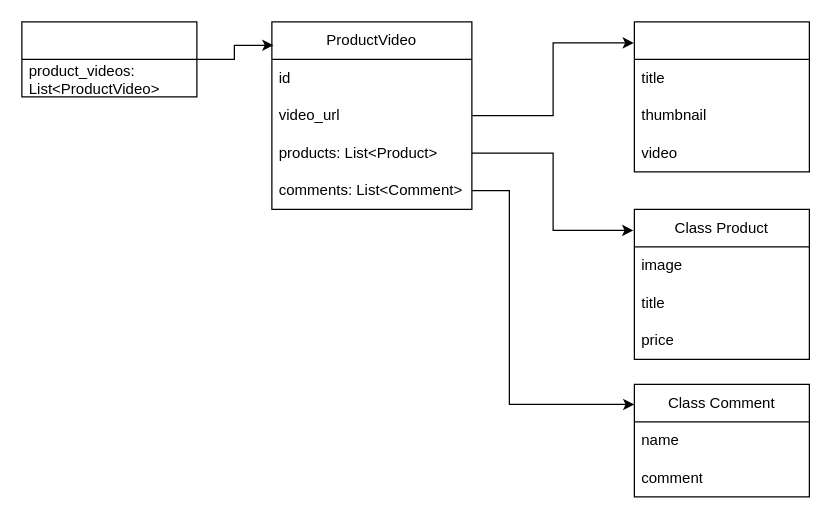
Some shapes in this 831 by 519 pixel diagram are drawn without their labels. The shapes that lost their labels are listed below. From the top down, each one's box as (x1, y1, x2, y2) in pixels, then its label:
(21, 21, 197, 97): HomeProductVideo
(633, 21, 809, 172): from YoutubeAPI
